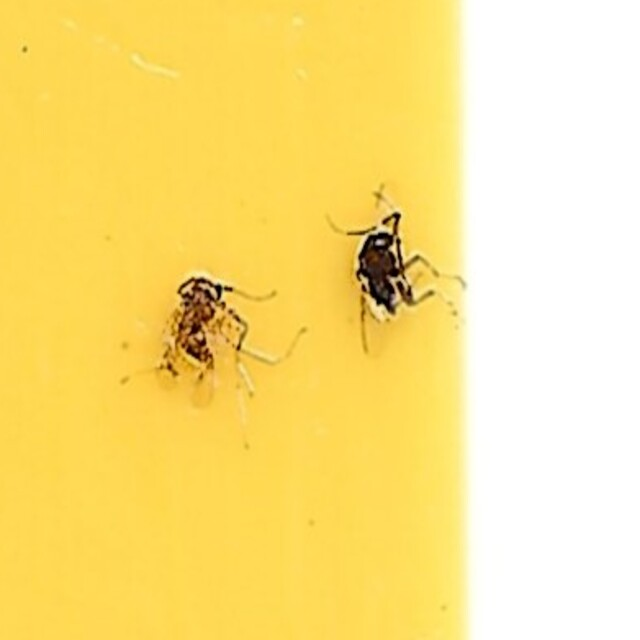Nematocera: (164, 275, 298, 430), (334, 210, 476, 348)
